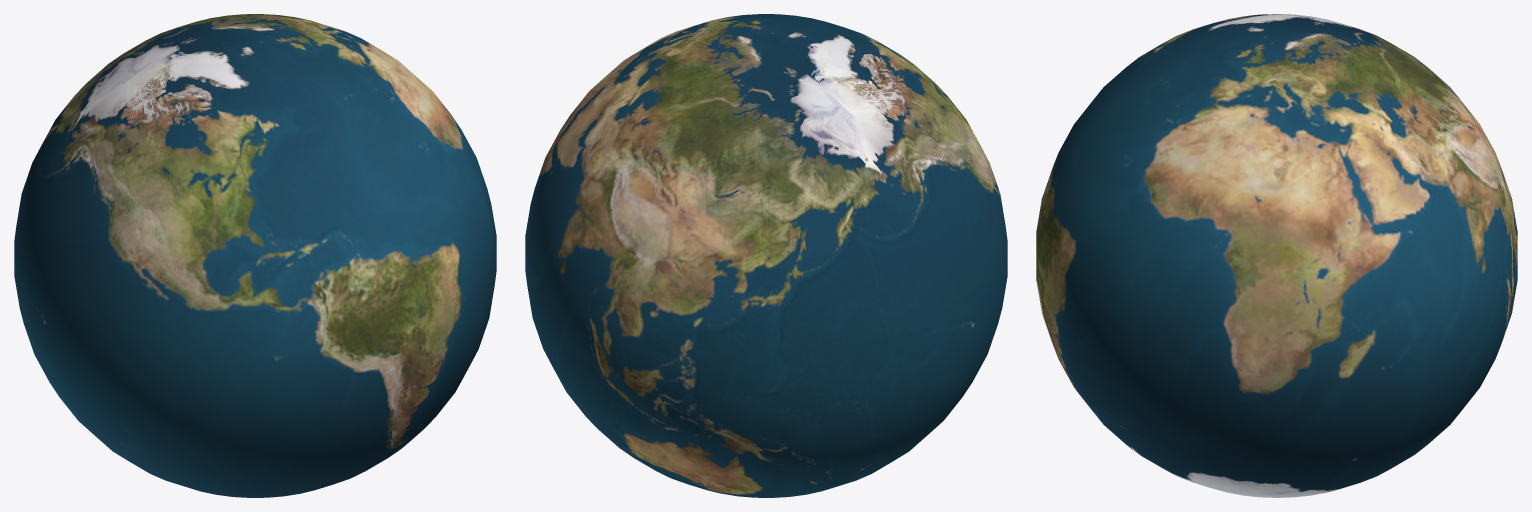
File: earth.dae
The picture shows the model from 3 angles, left to right: view 1: azimuth 30°, elevation 25°; view 2: azimuth 150°, elevation 25°; view 3: azimuth 270°, elevation 25°; orthographic projection.
Parts seen in each view (by area): view 1: Sphere; view 2: Sphere; view 3: Sphere.
Part boxes in pixels (left/top/right/bottom): Sphere: left=14, top=14, right=496, bottom=497; Sphere: left=525, top=14, right=1007, bottom=497; Sphere: left=1036, top=14, right=1517, bottom=497.
Bounding box in the file's own units: 1.99 × 1.99 × 2.
Materials: 1 (1 with a texture image).
